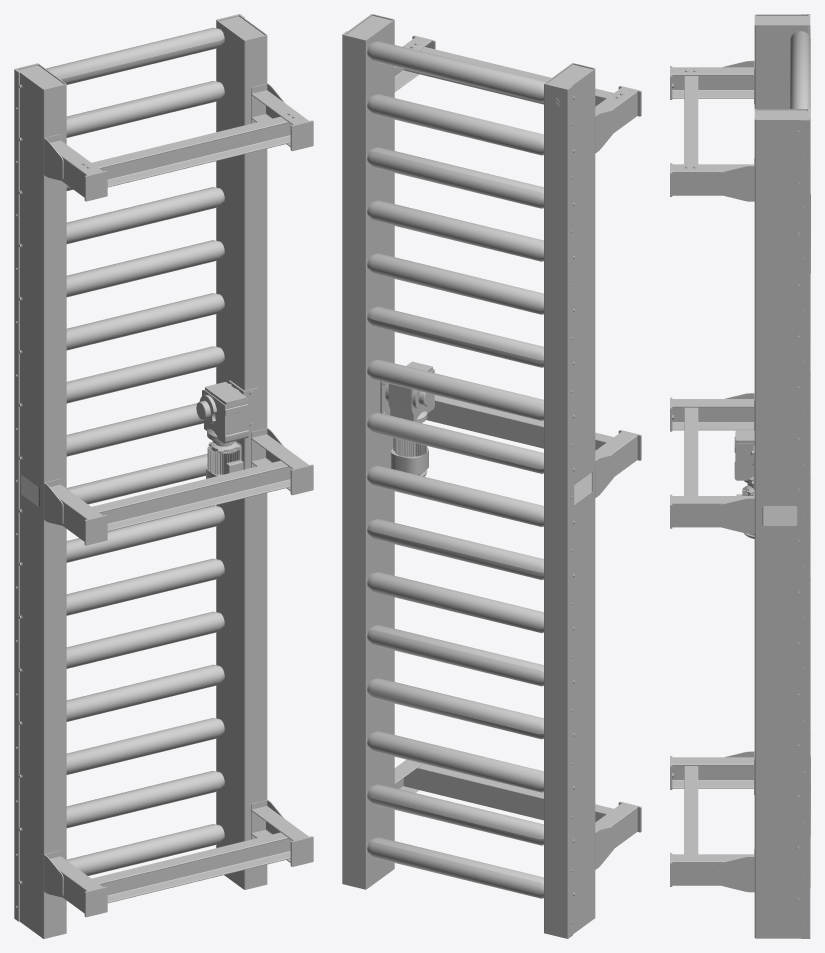
Rendered from RollerConveyor4M.fbx.
3 renders of one model, left to right at view 1: azimuth 30°, elevation 25°; view 2: azimuth 150°, elevation 25°; view 3: azimuth 270°, elevation 25°, orthographic. The views are drawn at different scales.
Visible parts, largest first — view 1: Struct.001; view 2: Struct.001; view 3: Struct.001.
Boxes of the visible parts, bbox=[...] form: Struct.001: bbox=[14, 14, 313, 938]; Struct.001: bbox=[342, 14, 641, 938]; Struct.001: bbox=[670, 14, 810, 938].
Size of the model in its own units: 112 by 400 by 62.33.
